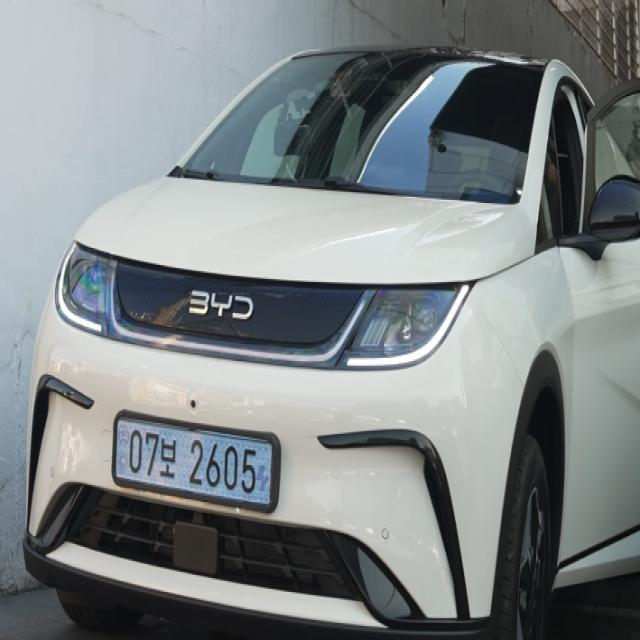car: (101, 400, 301, 532)
carev: (255, 418, 278, 517), (108, 409, 131, 495)
